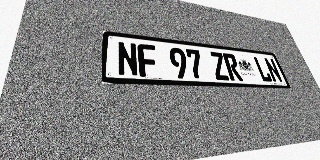7: (184, 49, 206, 79)
9: (168, 47, 190, 79)
F: (137, 43, 159, 77)
L: (252, 56, 273, 82)
N: (117, 41, 139, 77), (263, 57, 283, 83)
R: (222, 53, 243, 81)
Z: (209, 51, 230, 80)
